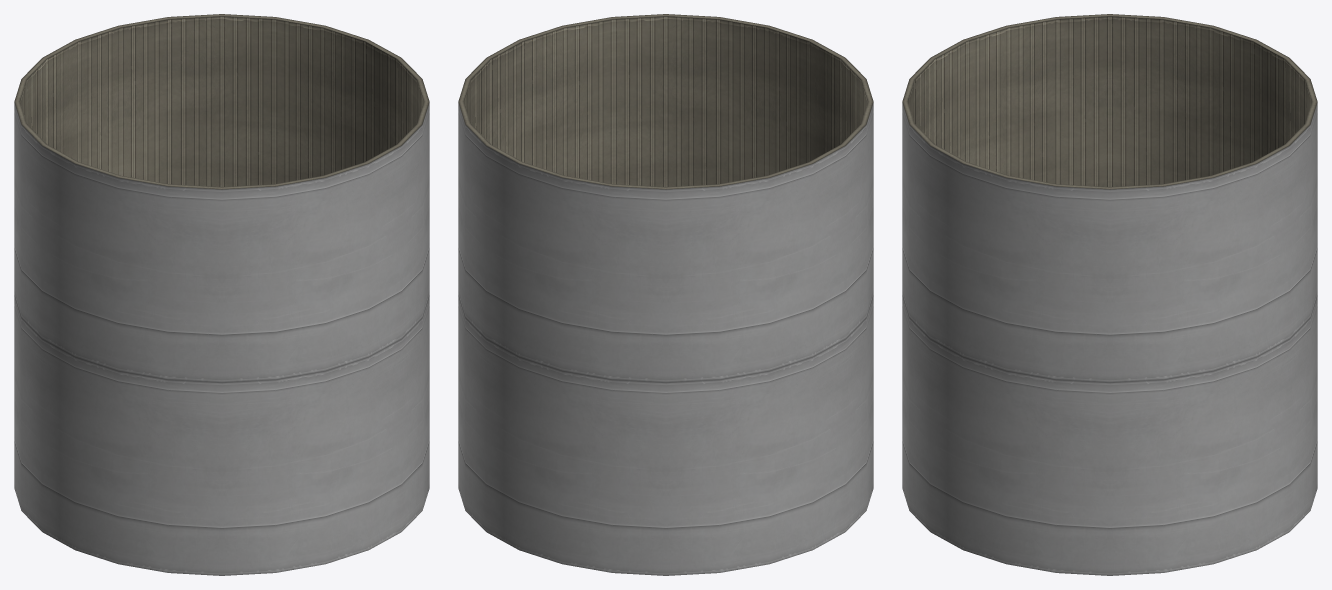
File: nk33_fairing_s1p5.obj
3 renders of one model, left to right at view 1: azimuth 30°, elevation 25°; view 2: azimuth 150°, elevation 25°; view 3: azimuth 270°, elevation 25°, orthographic.
Parts seen in each view (by area): view 1: fairing3; view 2: fairing3; view 3: fairing3.
Boxes of the visible parts, x1,y1,x2,y2 form: fairing3: [14, 14, 429, 575]; fairing3: [458, 14, 873, 575]; fairing3: [902, 14, 1317, 575].
Size of the model in its own units: 1.88 by 1.93 by 1.88.
1 material, 1 textured.
